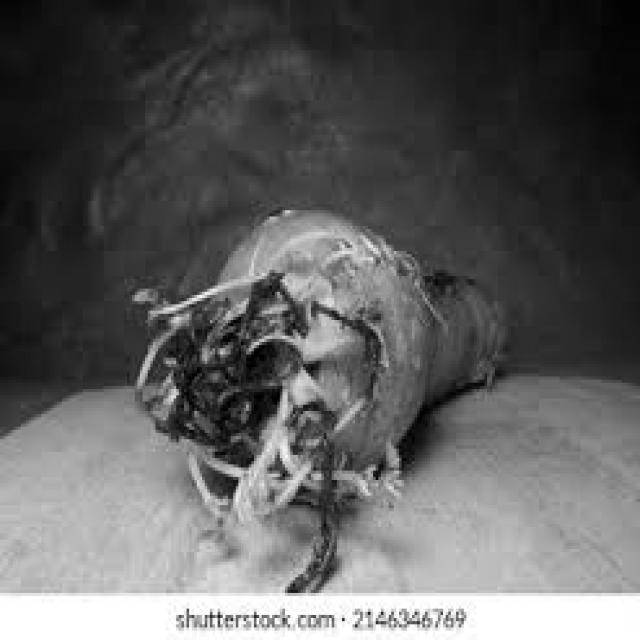Stale_Carrot: (136, 209, 509, 588)
